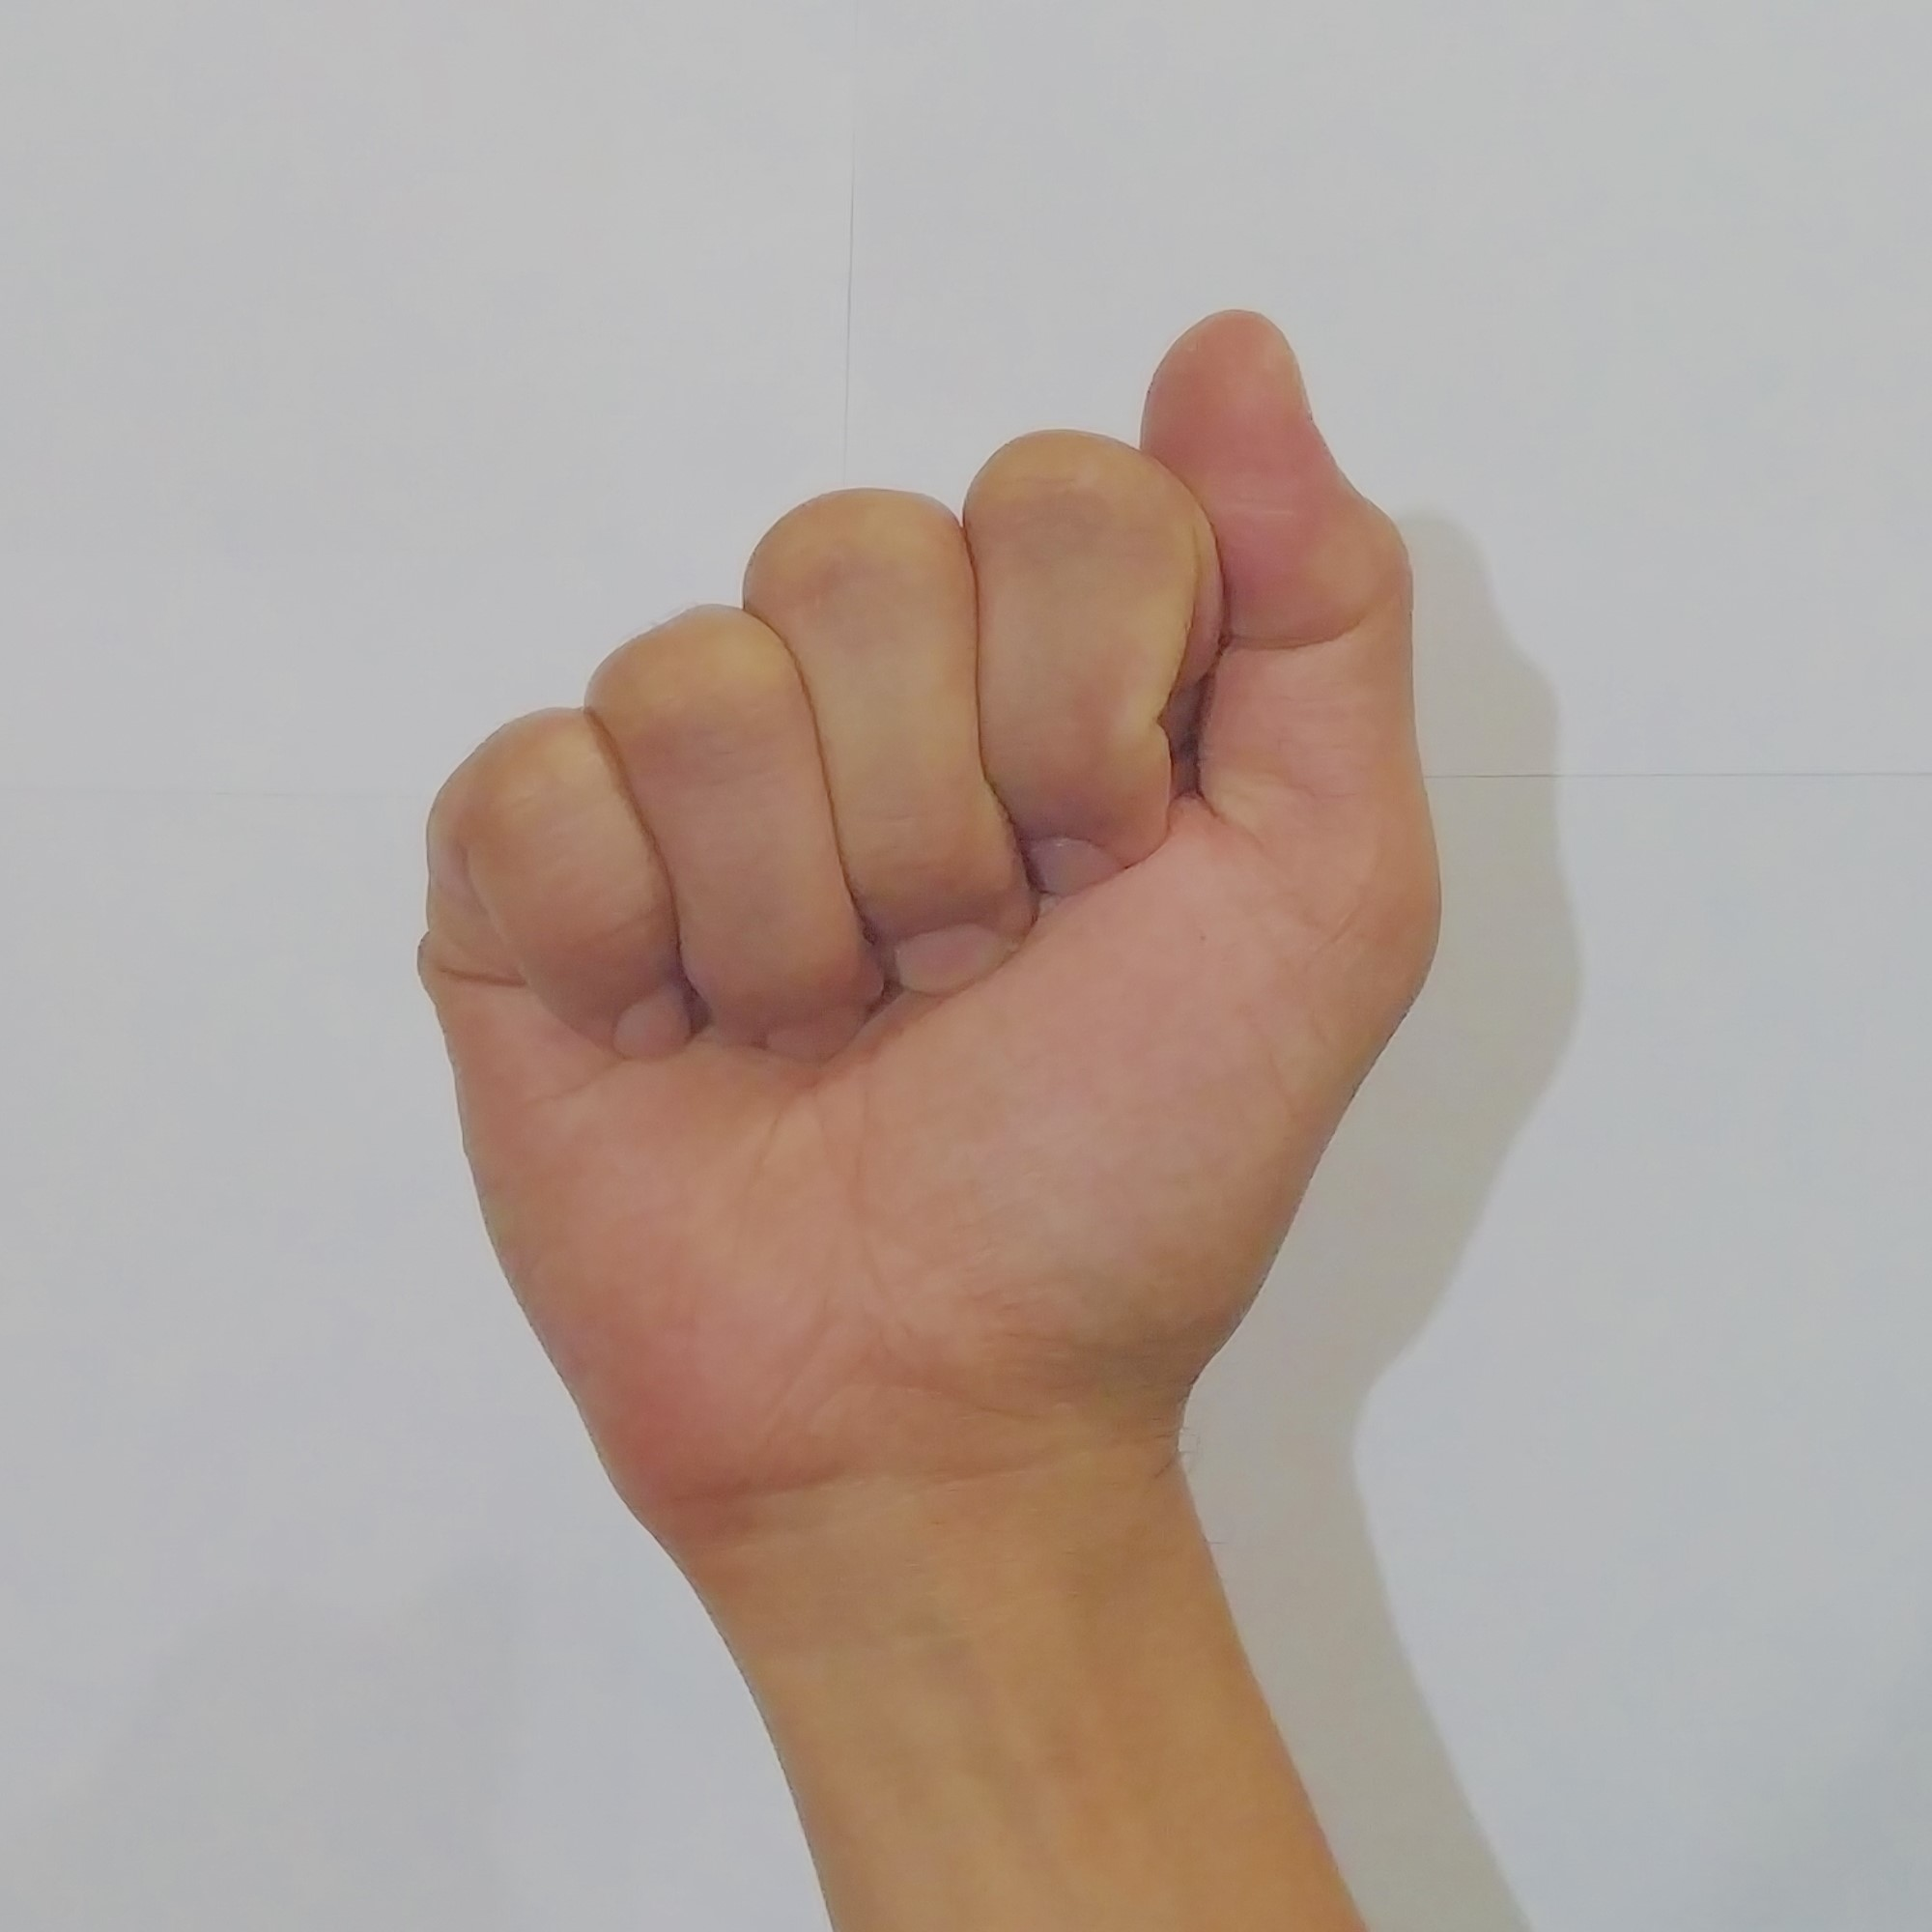A: (387, 287, 1461, 1484)
